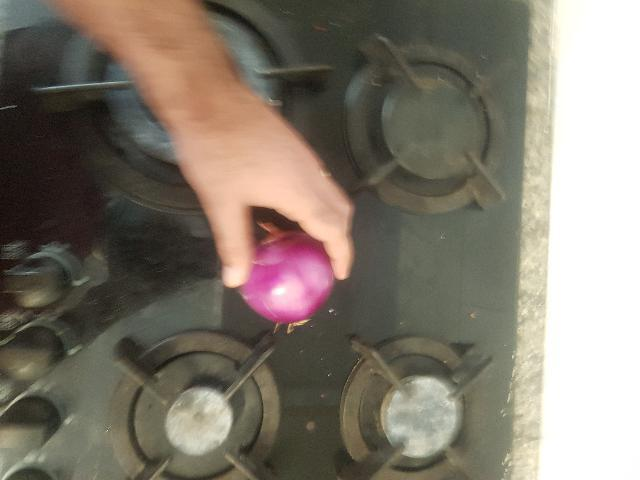onion: (394, 302, 477, 403)
